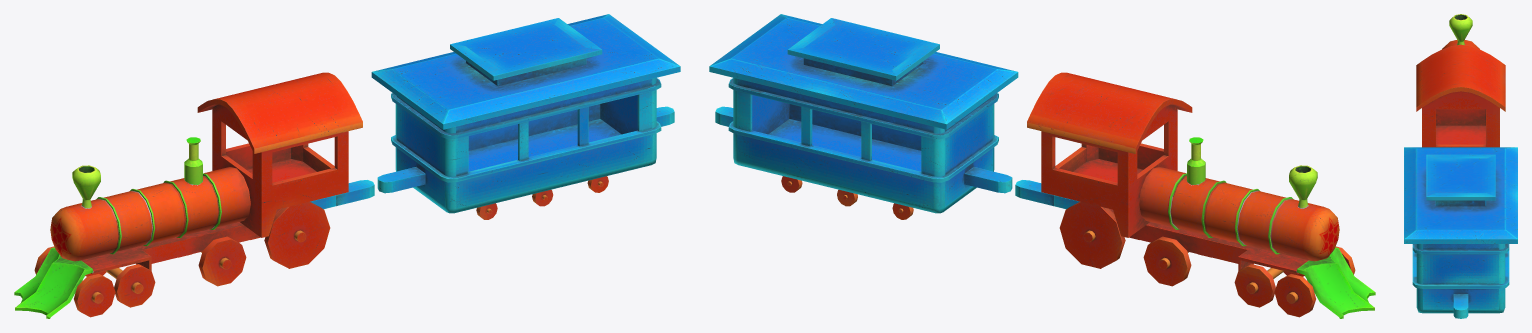
The model's file is toyTrain.glb.
The picture shows the model from 3 angles, left to right: view 1: azimuth 30°, elevation 25°; view 2: azimuth 150°, elevation 25°; view 3: azimuth 270°, elevation 25°; orthographic projection. The views are drawn at different scales.
Visible parts, largest first — view 1: toytrain_02, toytrain_01; view 2: toytrain_02, toytrain_01; view 3: toytrain_02, toytrain_01.
Boxes of the visible parts, <box> form: toytrain_02: <box>371,14,680,219</box>; toytrain_01: <box>14,72,374,318</box>; toytrain_02: <box>709,14,1018,219</box>; toytrain_01: <box>1015,72,1375,318</box>; toytrain_02: <box>1404,147,1517,318</box>; toytrain_01: <box>1416,14,1505,147</box>.
Bounding box in the file's own units: 0.7672 × 0.1801 × 0.1444.
Materials: 1 (1 with a texture image).
